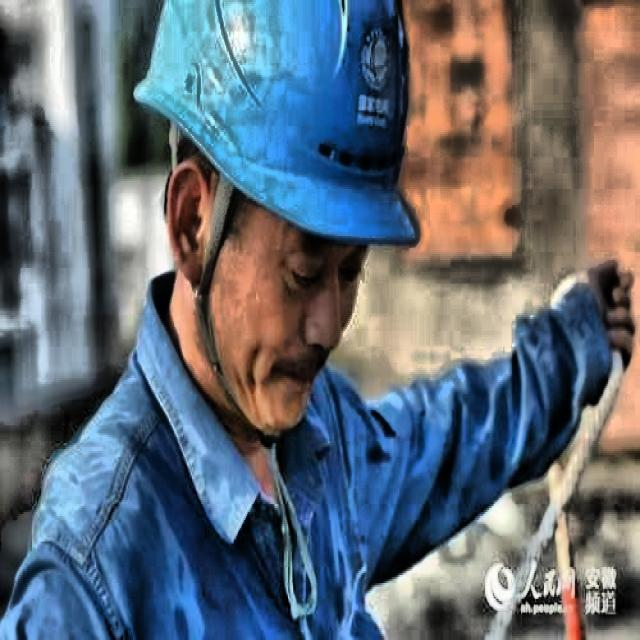helmet: (97, 0, 447, 459)
